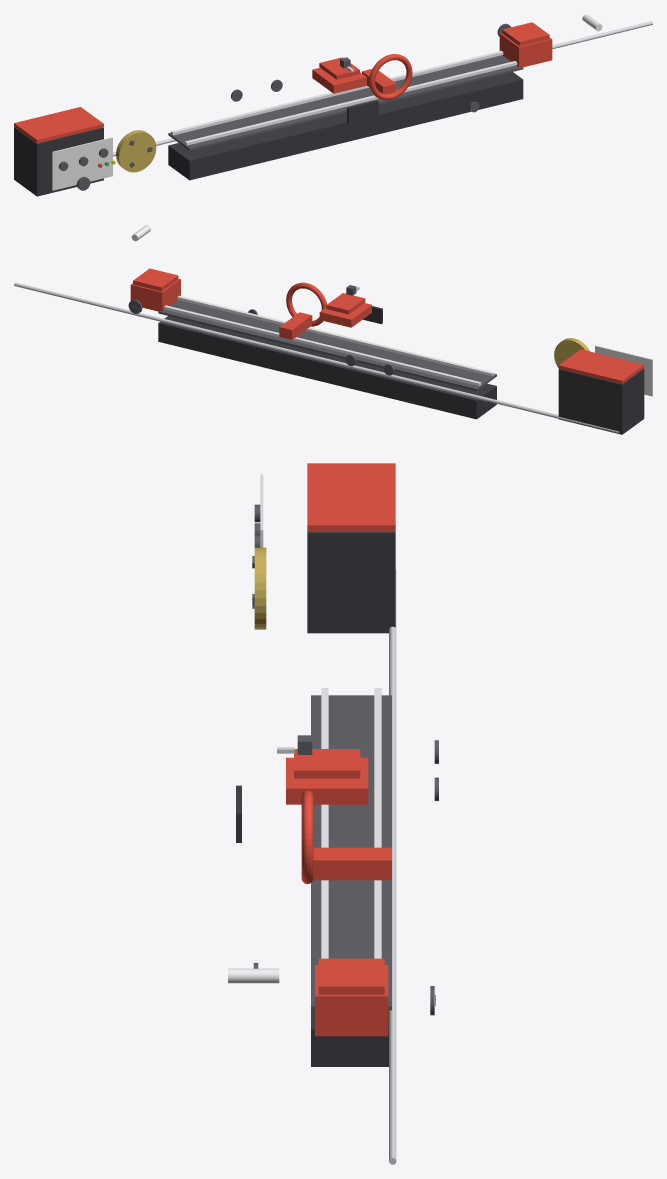
Rendered from mesin_bubut.glb.
3 views of the same model, one above another, from view 1: azimuth 30°, elevation 25°; view 2: azimuth 150°, elevation 25°; view 3: azimuth 270°, elevation 25° (orthographic). The views are drawn at different scales.
Parts seen in each view (by area): view 1: MainBed, BedTop, Headstock, ControlPanel, HeadstockTopRed, GuideRail_-0.18, GuideRail_0.18, Chuck, Tailstock, SteadyRestRing, Carriage, TailstockTop (+4 smaller); view 2: MainBed, BedTop, Headstock, LeadScrew, HeadstockTopRed, GuideRail_0.18, GuideRail_-0.18, Tailstock, ControlPanel, Carriage, TailstockTop, SteadyRest_Base (+3 smaller); view 3: BedTop, Headstock, HeadstockTopRed, LeadScrew, Tailstock, SteadyRest_Base, MainBed, TailstockTop, Carriage, CrossSlide, GuideRail_0.18, GuideRail_-0.18 (+2 smaller).
Part boxes in pixels (bbox=[...]): MainBed: bbox=[168, 72, 523, 180]; BedTop: bbox=[168, 55, 523, 150]; Headstock: bbox=[14, 127, 103, 196]; ControlPanel: bbox=[52, 137, 112, 190]; HeadstockTopRed: bbox=[14, 107, 103, 143]; GuideRail_-0.18: bbox=[185, 61, 517, 145]; GuideRail_0.18: bbox=[171, 50, 503, 135]; Chuck: bbox=[116, 130, 156, 172]; Tailstock: bbox=[499, 33, 552, 67]; SteadyRestRing: bbox=[369, 54, 412, 100]; Carriage: bbox=[312, 68, 366, 93]; TailstockTop: bbox=[502, 22, 549, 46]; MainBed: bbox=[158, 316, 496, 419]; BedTop: bbox=[158, 300, 496, 390]; Headstock: bbox=[558, 368, 644, 434]; LeadScrew: bbox=[14, 282, 619, 433]; HeadstockTopRed: bbox=[558, 349, 644, 383]; GuideRail_0.18: bbox=[164, 305, 481, 386]; GuideRail_-0.18: bbox=[177, 295, 494, 376]; Tailstock: bbox=[130, 278, 180, 311]; ControlPanel: bbox=[595, 345, 652, 396]; Carriage: bbox=[319, 303, 371, 327]; TailstockTop: bbox=[133, 268, 178, 291]; SteadyRest_Base: bbox=[279, 312, 312, 339]; BedTop: bbox=[311, 695, 391, 1010]; Headstock: bbox=[307, 532, 395, 633]; HeadstockTopRed: bbox=[307, 463, 395, 531]; LeadScrew: bbox=[389, 569, 396, 1164]; Tailstock: bbox=[315, 965, 388, 1036]; SteadyRest_Base: bbox=[313, 847, 391, 880]; MainBed: bbox=[311, 1010, 388, 1066]; TailstockTop: bbox=[318, 958, 384, 994]; Carriage: bbox=[286, 757, 368, 804]; CrossSlide: bbox=[294, 749, 360, 778]; GuideRail_0.18: bbox=[374, 688, 381, 958]; GuideRail_-0.18: bbox=[321, 688, 328, 958].
Size of the model in its own units: 9.55 by 1.21 by 1.44.
